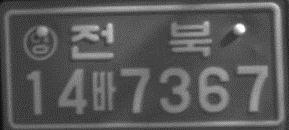1: (21, 69, 51, 115)
3: (158, 66, 191, 114)
4: (57, 68, 87, 114)
6: (197, 65, 231, 114)
7: (236, 62, 268, 112), (119, 66, 151, 114)
바: (91, 69, 115, 113)
영: (21, 25, 57, 61)
전북_D: (69, 19, 211, 60)
